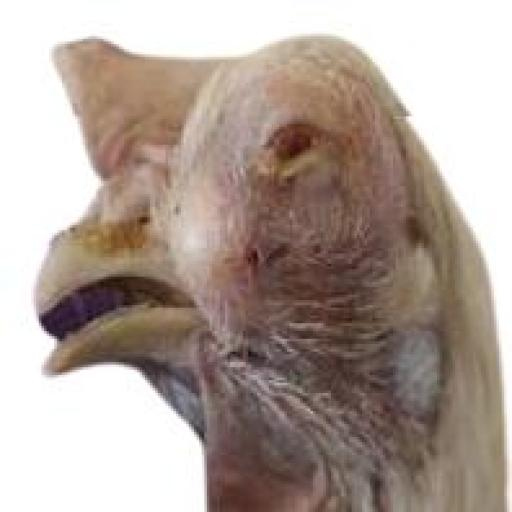disease: (230, 76, 349, 188), (291, 315, 383, 420), (178, 176, 264, 278)
